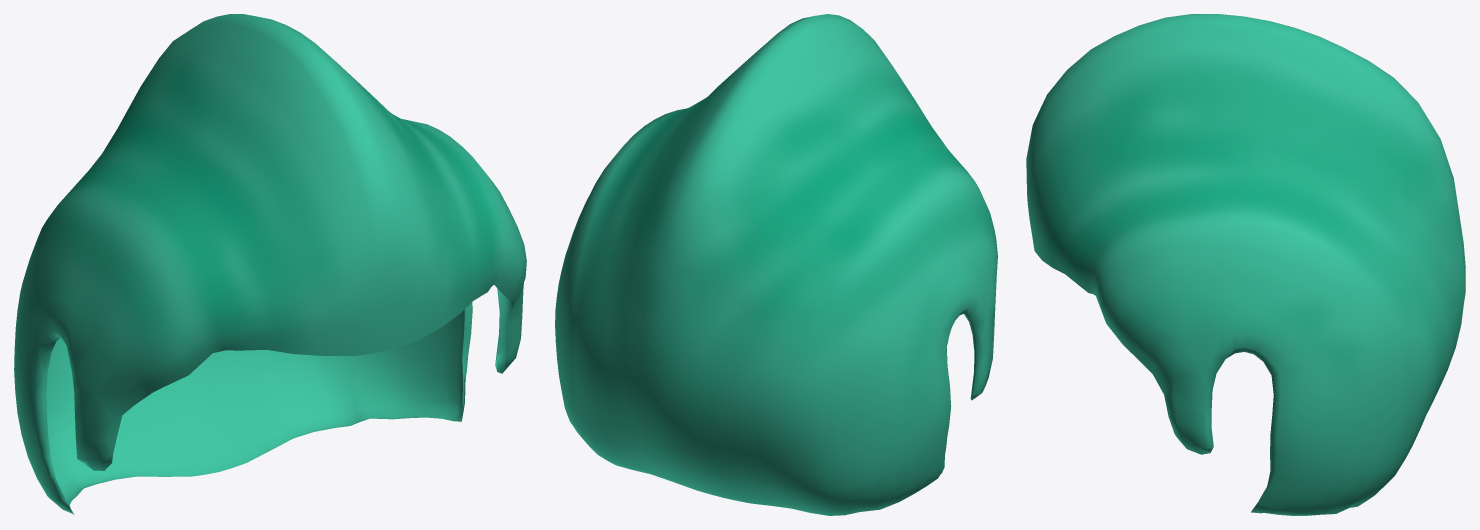
The model's file is hair3.glb.
The picture shows the model from 3 angles, left to right: view 1: azimuth 30°, elevation 25°; view 2: azimuth 150°, elevation 25°; view 3: azimuth 270°, elevation 25°; orthographic projection. The views are drawn at different scales.
Parts seen in each view (by area): view 1: Hair3; view 2: Hair3; view 3: Hair3.
Boxes of the visible parts, left/top/right/bottom form: Hair3: left=14, top=14, right=526, bottom=515; Hair3: left=555, top=14, right=997, bottom=515; Hair3: left=1026, top=14, right=1465, bottom=515.
Bounding box in the file's own units: 0.00898 × 0.00961 × 0.00855.
1 material, 1 textured.
